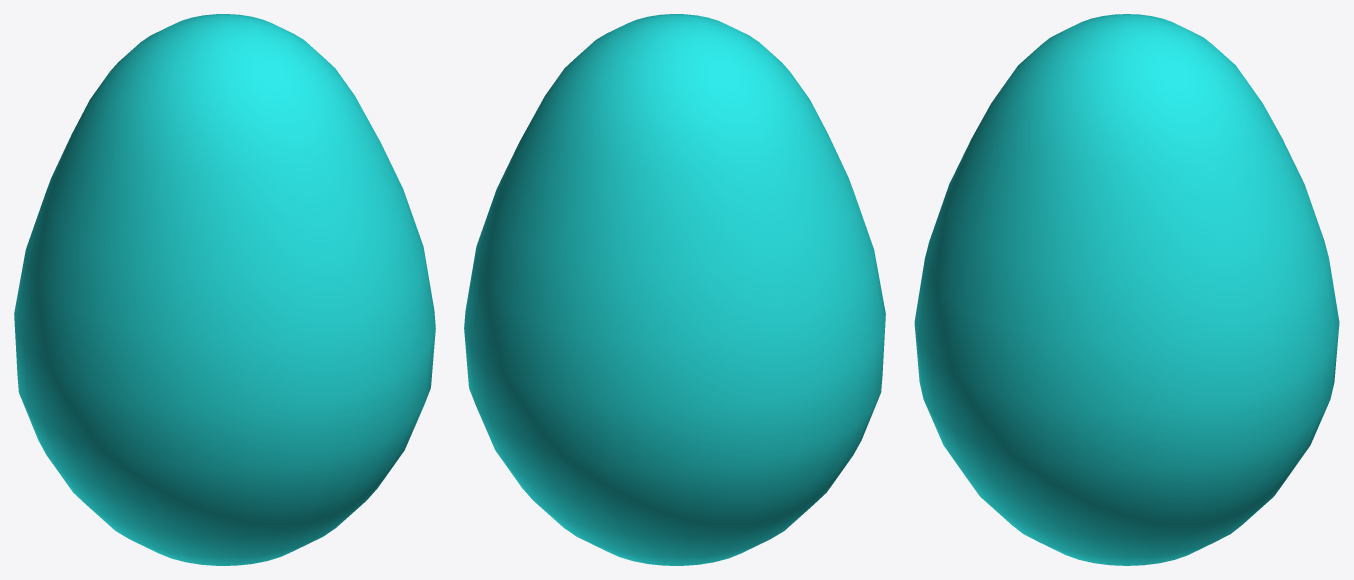
The model's file is egg.glb.
3 renders of one model, left to right at view 1: azimuth 30°, elevation 25°; view 2: azimuth 150°, elevation 25°; view 3: azimuth 270°, elevation 25°, orthographic.
Visible parts, largest first — view 1: Sphere; view 2: Sphere; view 3: Sphere.
Boxes of the visible parts, <box> form: Sphere: <box>14,14,435,565</box>; Sphere: <box>464,14,885,565</box>; Sphere: <box>914,14,1339,565</box>.
Size of the model in its own units: 1.87 by 2.57 by 1.89.
